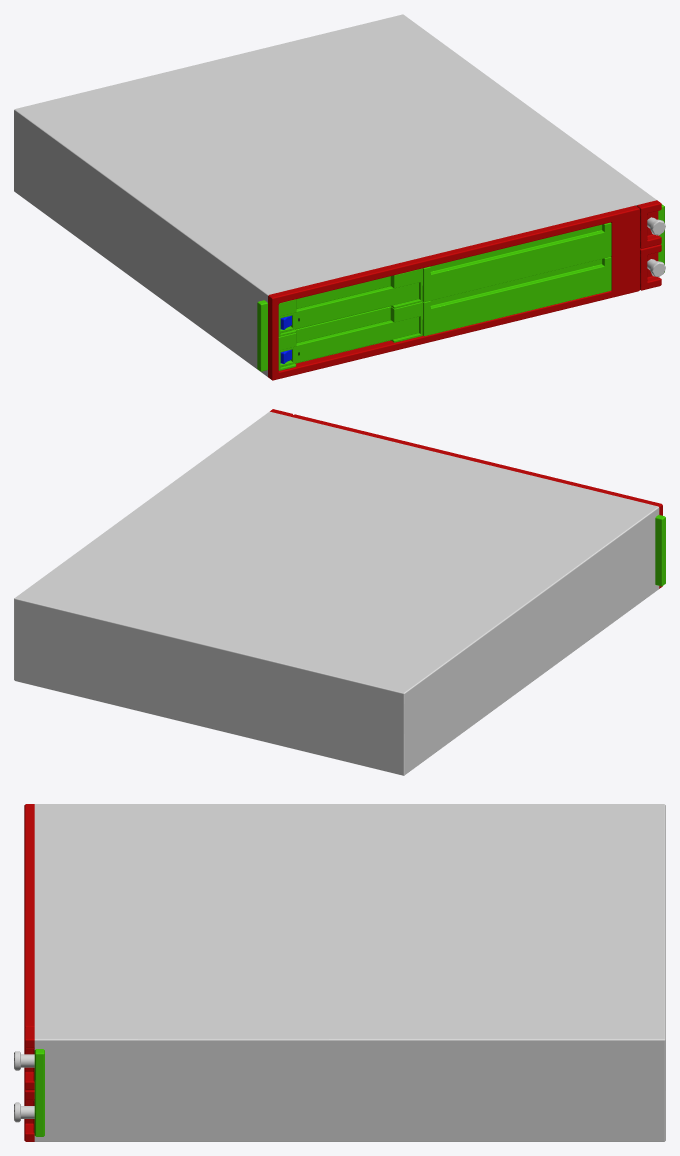
File: ServerBay03.fbx
3 views of the same model, one above another, from view 1: azimuth 30°, elevation 25°; view 2: azimuth 150°, elevation 25°; view 3: azimuth 270°, elevation 25° (orthographic). The views are drawn at different scales.
Parts seen in each view (by area): view 1: ServerBay03; view 2: ServerBay03; view 3: ServerBay03.
Boxes of the visible parts, x1,y1,x2,y2 form: ServerBay03: [14, 14, 665, 380]; ServerBay03: [14, 409, 665, 775]; ServerBay03: [14, 804, 665, 1141].
Size of the model in its own units: 70 by 13.75 by 78.75.
